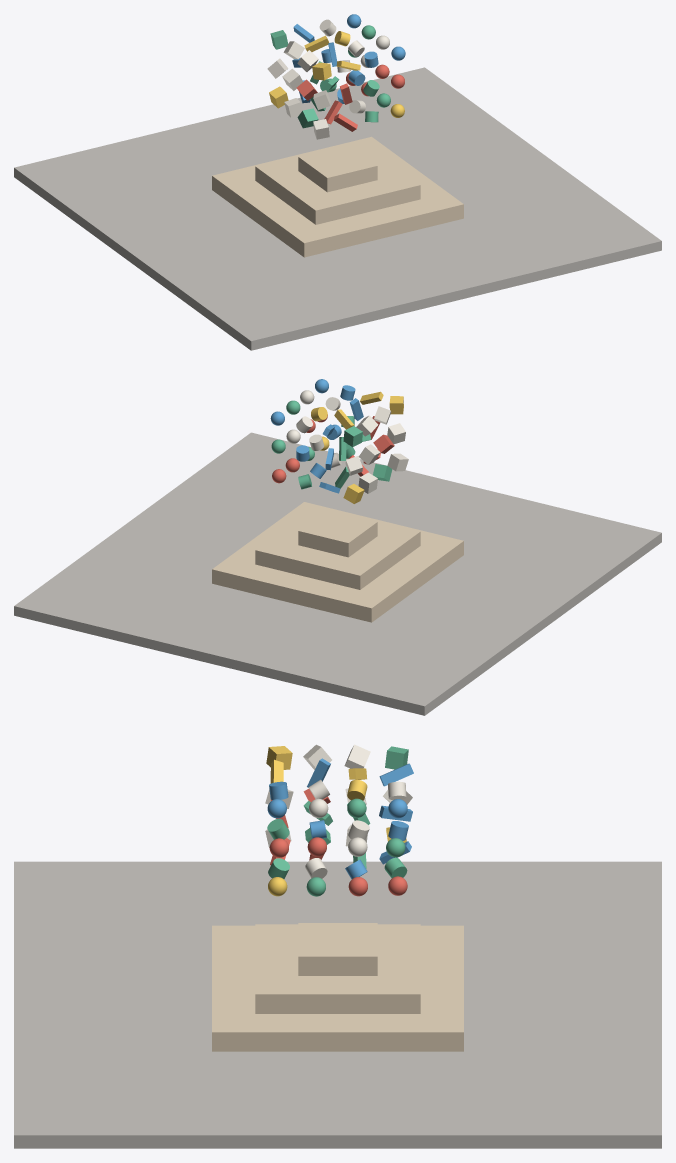
Rendered from blocks.gltf.
3 views of the same model, one above another, from view 1: azimuth 30°, elevation 25°; view 2: azimuth 150°, elevation 25°; view 3: azimuth 270°, elevation 25° (orthographic). The views are drawn at different scales.
Visible parts, largest first — view 1: floor, plinth; view 2: floor, plinth; view 3: floor, plinth.
Part boxes in pixels (left/top/right/bottom): floor: left=14, top=67, right=661, bottom=350; plinth: left=212, top=136, right=463, bottom=257; floor: left=14, top=432, right=661, bottom=715; plinth: left=212, top=502, right=463, bottom=622; floor: left=14, top=861, right=661, bottom=1148; plinth: left=212, top=923, right=463, bottom=1051.
Bounding box in the file's own units: 18 × 7.48 × 18.
